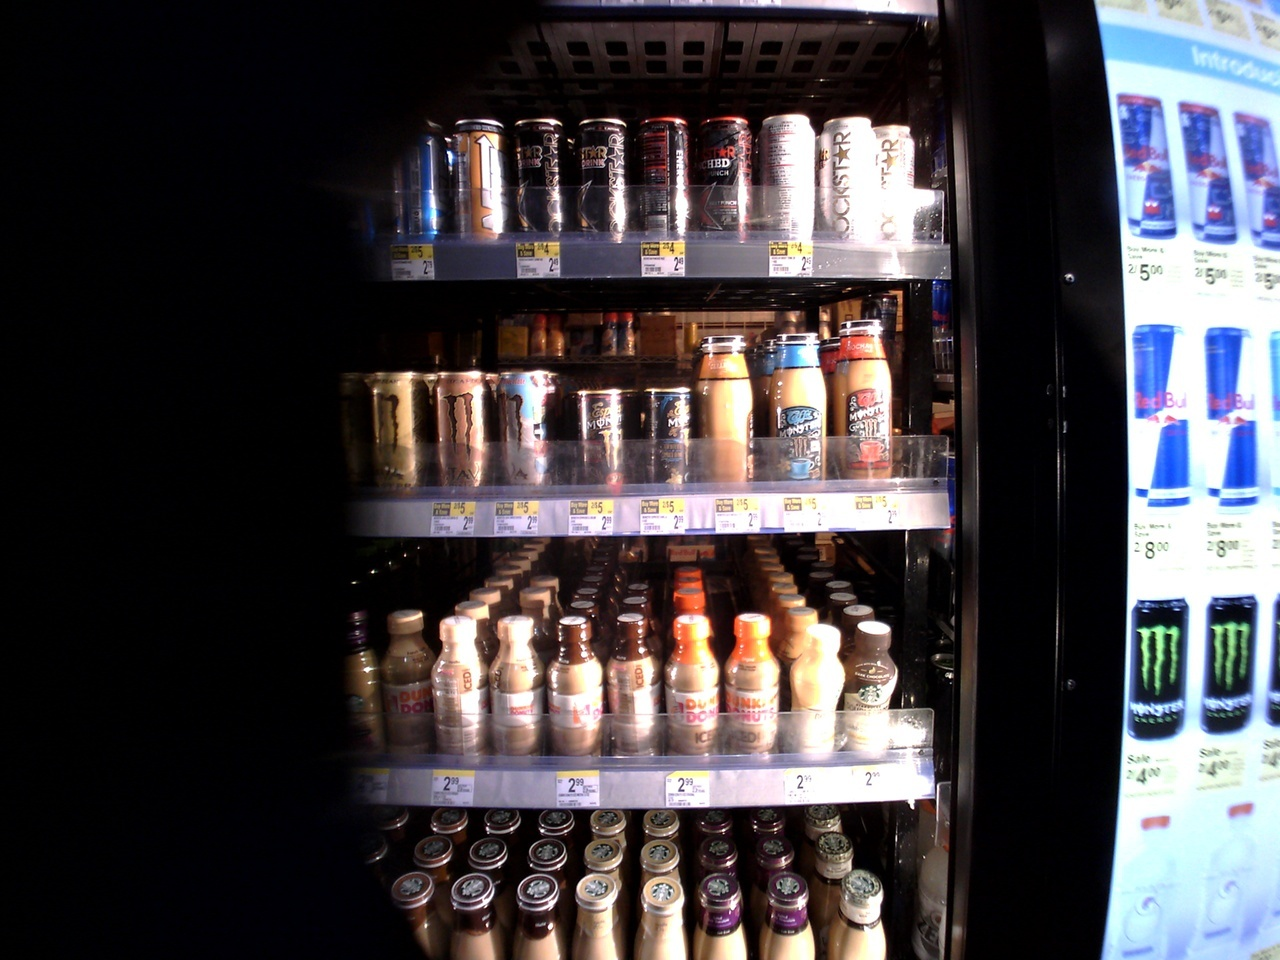shelf: (319, 552, 967, 801), (335, 285, 940, 529), (348, 62, 913, 271), (369, 803, 953, 960)
